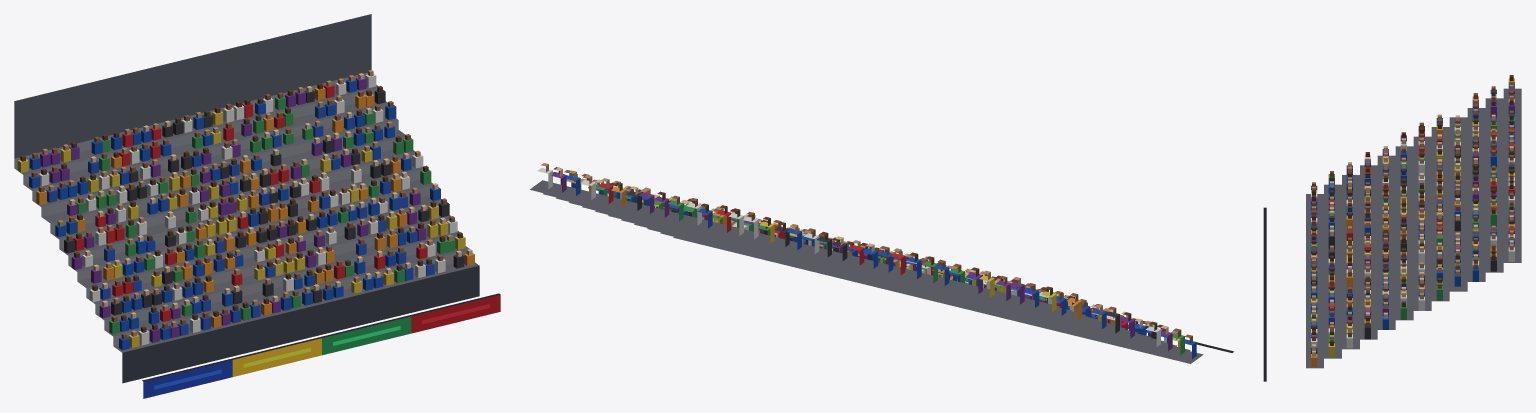
File: stand_long_b_hd.glb
3 renders of one model, left to right at view 1: azimuth 30°, elevation 25°; view 2: azimuth 150°, elevation 25°; view 3: azimuth 270°, elevation 25°, orthographic. The views are drawn at different scales.
Visible parts, largest first — view 1: stand_long_b; view 2: stand_long_b; view 3: stand_long_b.
Boxes of the visible parts, x1,y1,x2,y2 form: stand_long_b: (14,14,500,398); stand_long_b: (530,163,1233,363); stand_long_b: (1263,75,1521,381).
Bounding box in the file's own units: 19.5 × 11 × 12.21.
